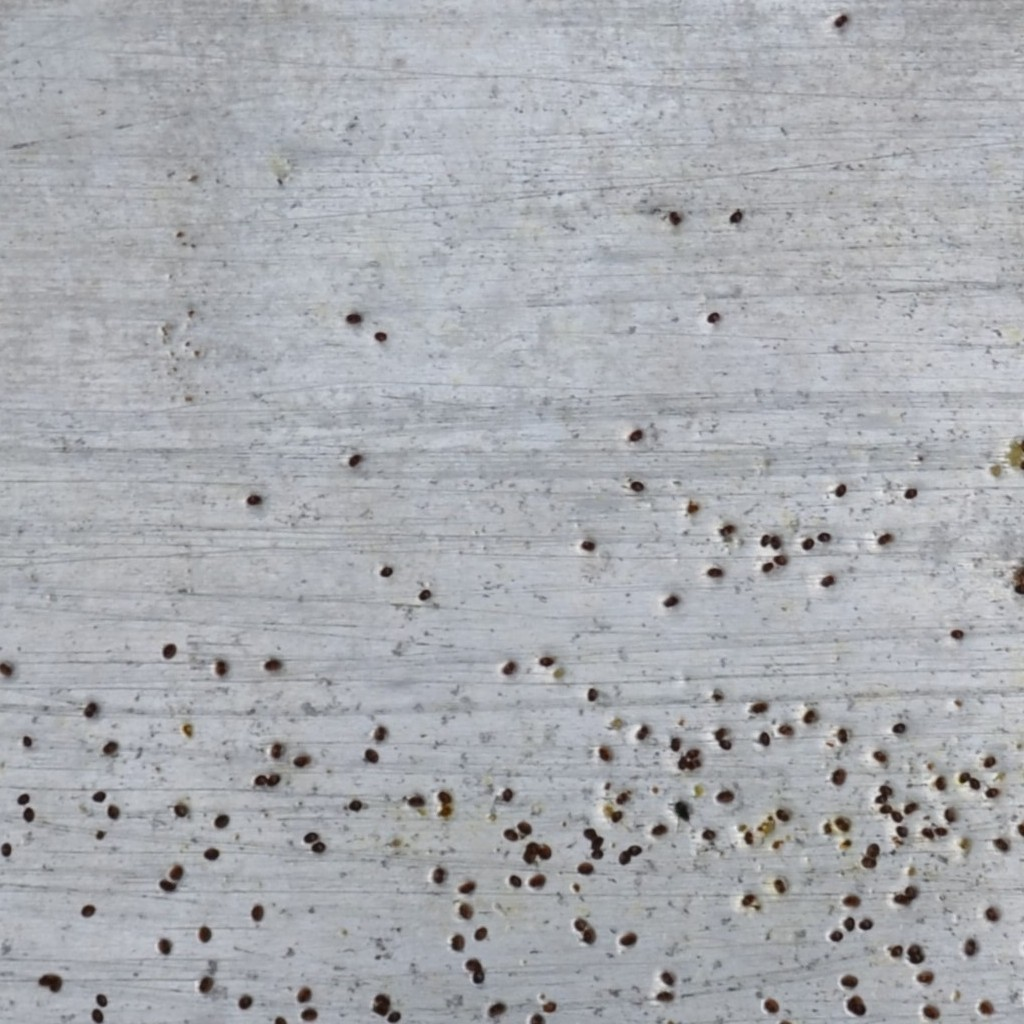varroa: (845, 993, 868, 1015), (831, 9, 848, 33), (674, 798, 691, 822), (990, 835, 1011, 854), (961, 933, 978, 956), (982, 902, 1001, 922), (487, 998, 506, 1018), (921, 1002, 942, 1020), (660, 591, 682, 608), (874, 529, 893, 548), (345, 451, 363, 471), (890, 892, 914, 907), (829, 764, 847, 784), (626, 428, 644, 447), (628, 477, 647, 495), (578, 537, 597, 555), (343, 308, 362, 326), (977, 998, 996, 1016), (762, 996, 780, 1015), (619, 930, 637, 949), (79, 900, 97, 919), (859, 852, 879, 869), (101, 737, 118, 757), (237, 991, 252, 1013), (718, 520, 735, 539), (834, 815, 853, 832), (842, 890, 861, 907), (715, 787, 734, 804), (529, 871, 546, 890), (296, 984, 313, 1003), (667, 207, 683, 227), (500, 658, 516, 678), (197, 924, 213, 944), (915, 969, 936, 984), (106, 801, 121, 822), (263, 658, 285, 672), (659, 970, 677, 987), (168, 862, 185, 880), (902, 485, 921, 501), (840, 972, 859, 988), (450, 932, 466, 951), (291, 751, 310, 767), (705, 564, 725, 579), (749, 699, 769, 714), (833, 480, 847, 501), (575, 860, 596, 874), (371, 724, 388, 741), (213, 812, 230, 829), (93, 990, 110, 1007), (799, 536, 815, 554), (416, 586, 432, 604), (903, 799, 919, 817), (161, 642, 177, 660), (158, 935, 174, 953), (378, 561, 393, 580), (649, 821, 668, 836), (298, 1006, 317, 1021), (821, 571, 835, 591), (803, 706, 817, 726), (773, 875, 787, 895), (655, 989, 675, 1003), (406, 794, 426, 808), (250, 902, 264, 922), (83, 700, 97, 720), (905, 882, 918, 903), (158, 878, 179, 891), (245, 491, 262, 507), (887, 943, 903, 960), (741, 892, 757, 909), (203, 846, 220, 862), (727, 206, 742, 224), (949, 628, 967, 643), (933, 774, 948, 792), (918, 823, 933, 841), (775, 805, 790, 823), (581, 929, 596, 947), (460, 902, 475, 920), (364, 747, 379, 765), (197, 975, 212, 993), (173, 801, 188, 819), (635, 722, 649, 741), (474, 925, 488, 944), (270, 740, 284, 759), (49, 972, 62, 992), (372, 327, 388, 343), (865, 842, 881, 858), (517, 819, 533, 835), (459, 879, 476, 894), (436, 789, 453, 804), (372, 1002, 389, 1017), (773, 554, 791, 568), (758, 531, 772, 549), (835, 725, 849, 743), (756, 728, 770, 746), (301, 829, 319, 843), (21, 730, 34, 749), (778, 720, 793, 736), (502, 827, 518, 842), (520, 849, 535, 865), (542, 1000, 558, 1015), (347, 798, 362, 814), (91, 787, 106, 803), (90, 1007, 106, 1022), (760, 559, 774, 576), (538, 844, 552, 861), (21, 806, 35, 823), (37, 971, 51, 988), (538, 654, 556, 667), (501, 785, 514, 803), (508, 871, 521, 889), (706, 308, 721, 323), (982, 754, 997, 769), (858, 916, 873, 931), (718, 737, 733, 752), (573, 916, 588, 931), (934, 824, 948, 840), (873, 748, 887, 764), (583, 825, 597, 841), (213, 659, 227, 675), (267, 772, 281, 788), (907, 944, 924, 957), (842, 915, 855, 932), (828, 929, 845, 942), (433, 867, 446, 884), (0, 840, 13, 857), (877, 783, 895, 795), (770, 534, 784, 549), (892, 721, 906, 736), (878, 802, 893, 816), (311, 841, 326, 855), (908, 953, 927, 964), (968, 776, 981, 792), (894, 824, 910, 837), (17, 791, 30, 807), (466, 959, 483, 971), (817, 530, 831, 544), (958, 770, 972, 784), (253, 772, 267, 786), (628, 843, 643, 856), (618, 850, 631, 865), (670, 736, 682, 752), (591, 832, 603, 848), (386, 1011, 403, 1022), (891, 807, 903, 822), (686, 747, 701, 759), (590, 848, 605, 860), (374, 991, 389, 1003), (587, 686, 598, 702), (985, 786, 999, 798), (677, 757, 689, 771), (611, 809, 622, 824), (528, 1012, 543, 1023), (473, 969, 484, 984), (874, 794, 890, 804), (525, 841, 538, 852), (273, 1013, 286, 1023), (1017, 820, 1023, 840)
